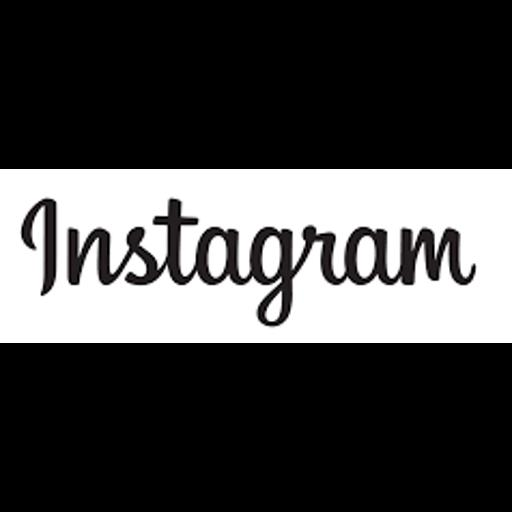Instagram: (0, 169, 512, 343)
